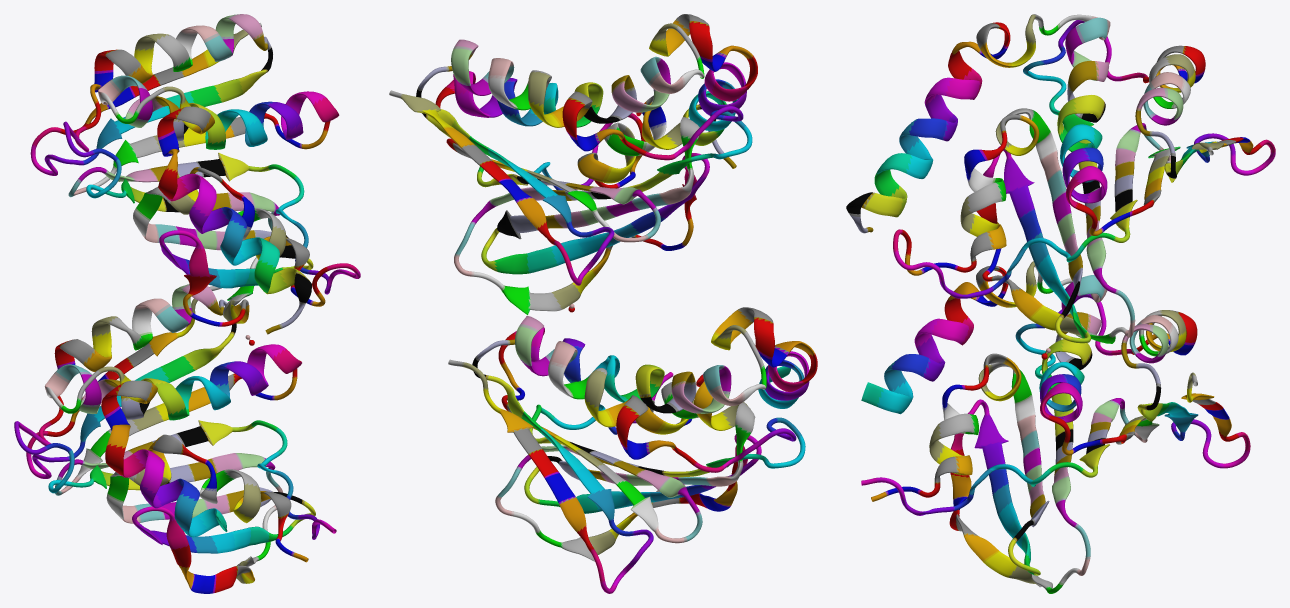
3 renders of one model, left to right at view 1: azimuth 30°, elevation 25°; view 2: azimuth 150°, elevation 25°; view 3: azimuth 270°, elevation 25°, orthographic. The views are drawn at different scales.
Parts seen in each view (by area): view 1: interaksi6; view 2: interaksi6; view 3: interaksi6.
Part boxes in pixels (<box>): interaksi6: <box>14,14,360,593</box>; interaksi6: <box>389,14,817,593</box>; interaksi6: <box>846,14,1275,593</box>.
Size of the model in its own units: 1.62 by 2.45 by 1.78.
